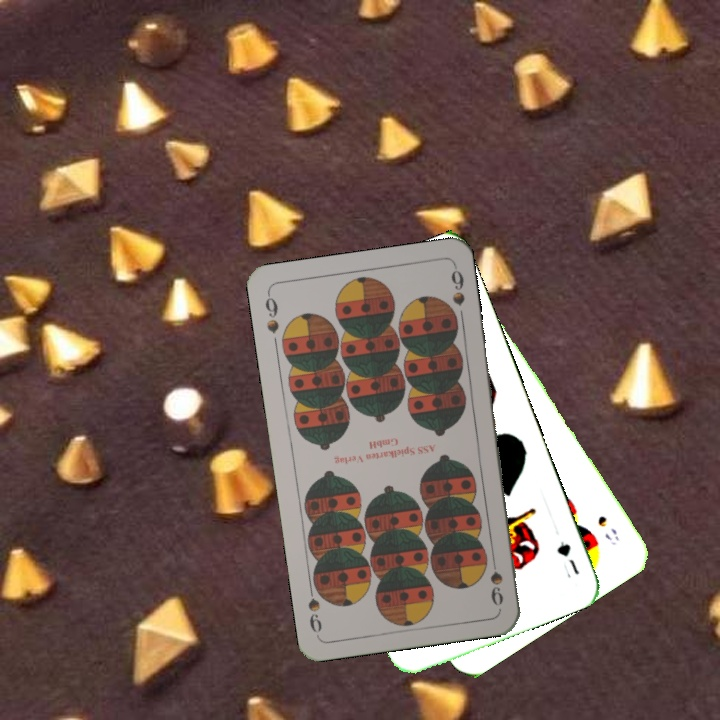GU: (552, 536, 582, 581)
S8: (593, 511, 622, 548)
S9: (486, 550, 506, 609), (261, 289, 282, 336)
